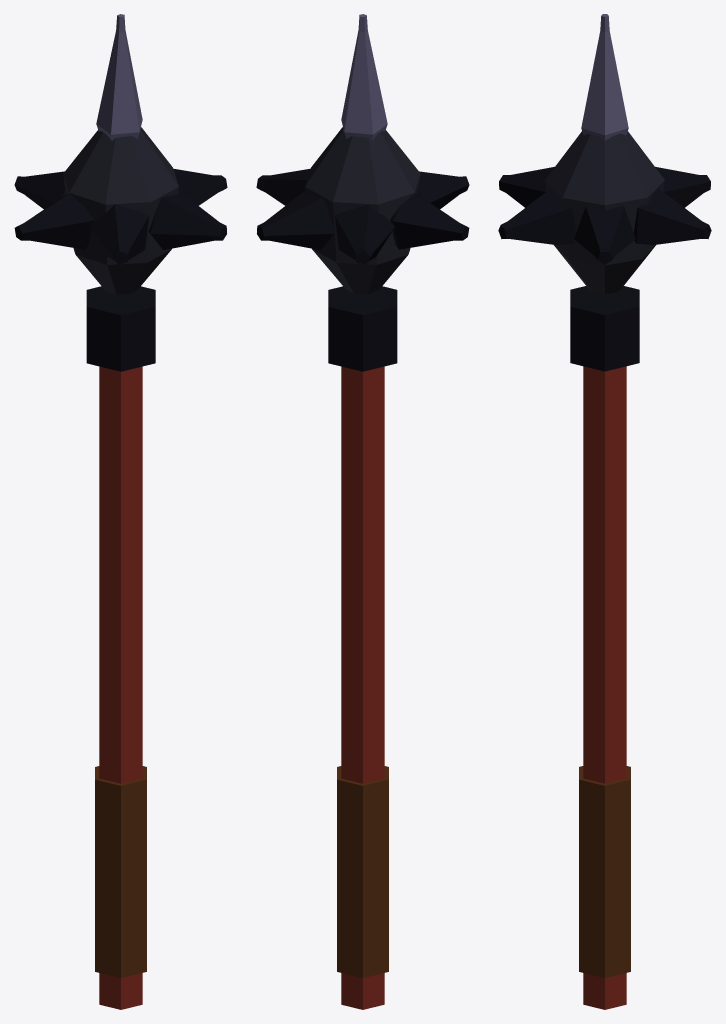
Rendered from wpn_melee_1h_9.glb.
3 views of the same model, side by side, from view 1: azimuth 30°, elevation 25°; view 2: azimuth 150°, elevation 25°; view 3: azimuth 270°, elevation 25° (orthographic).
Parts seen in each view (by area): view 1: wpn_melee_1h_9; view 2: wpn_melee_1h_9; view 3: wpn_melee_1h_9.
Part boxes in pixels (left/top/right/bottom): wpn_melee_1h_9: left=14, top=14, right=227, bottom=1009; wpn_melee_1h_9: left=256, top=14, right=469, bottom=1009; wpn_melee_1h_9: left=498, top=14, right=711, bottom=1009.
Size of the model in its own units: 0.19 by 0.87 by 0.1709.
